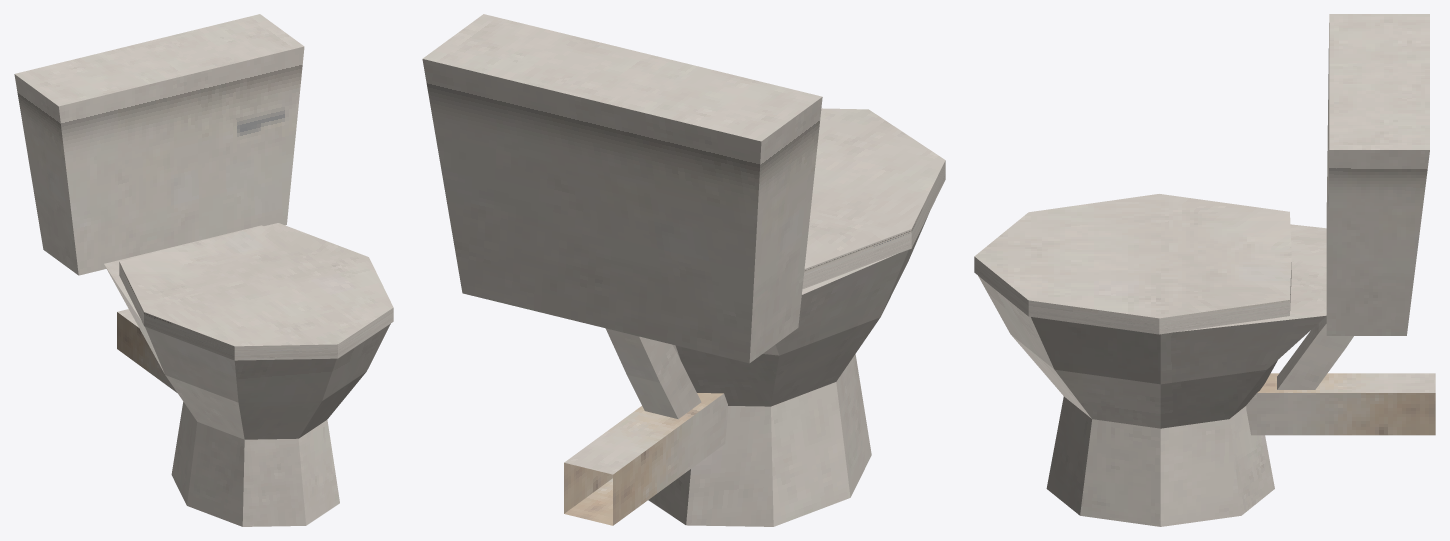
File: toilet_002.glb
The picture shows the model from 3 angles, left to right: view 1: azimuth 30°, elevation 25°; view 2: azimuth 150°, elevation 25°; view 3: azimuth 270°, elevation 25°; orthographic projection. The views are drawn at different scales.
Visible parts, largest first — view 1: toilet.002; view 2: toilet.002; view 3: toilet.002.
Part boxes in pixels (x1=…): toilet.002: x1=14, y1=14, x2=393, y2=526; toilet.002: x1=422, y1=14, x2=945, y2=526; toilet.002: x1=974, y1=14, x2=1435, y2=526.
Size of the model in its own units: 0.5999 by 0.8357 by 0.8589.
Materials: 1 (1 with a texture image).
